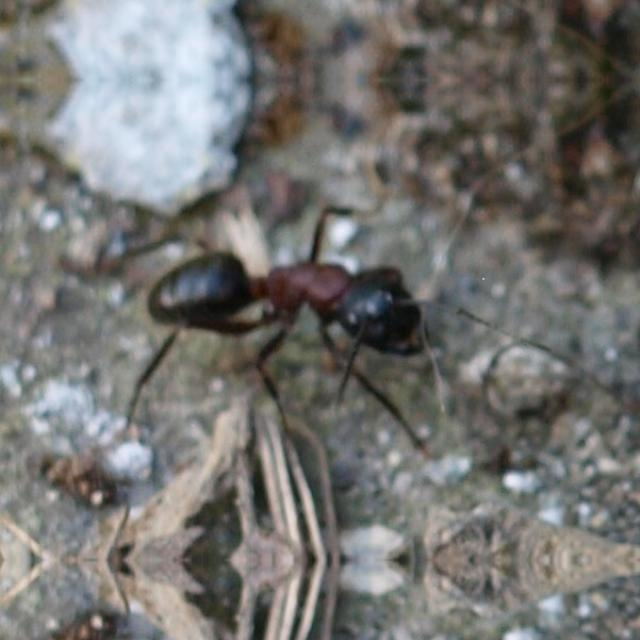Camponotus: (120, 221, 458, 395)
